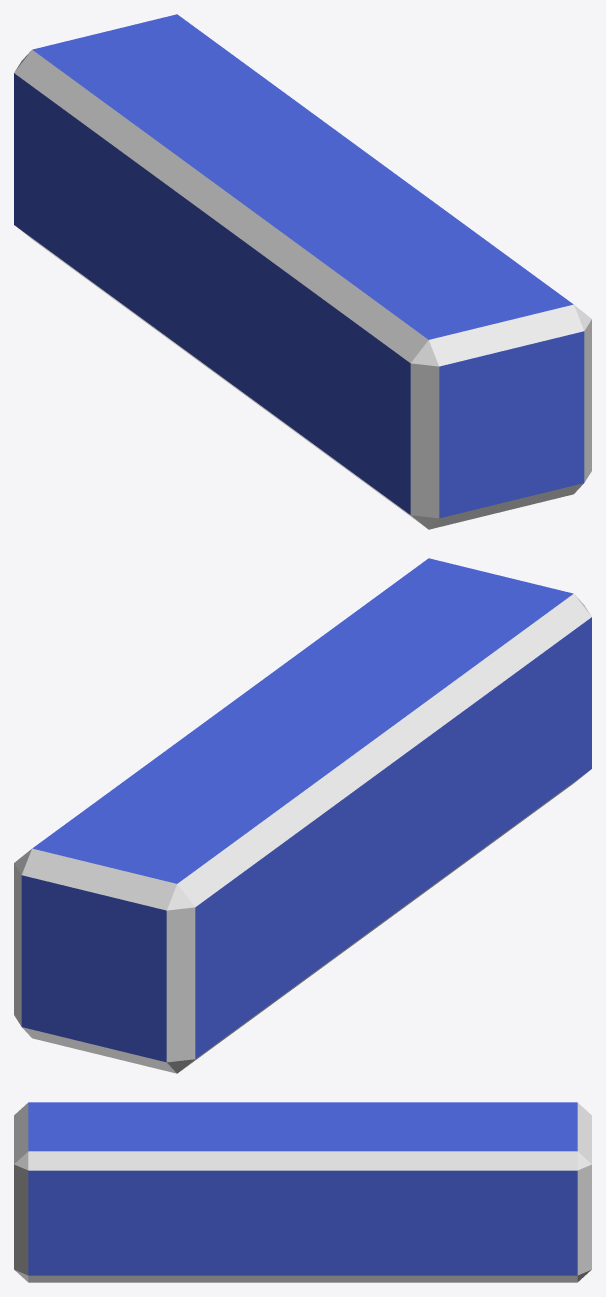
File: Zid 1x4.fbx
3 views of the same model, one above another, from view 1: azimuth 30°, elevation 25°; view 2: azimuth 150°, elevation 25°; view 3: azimuth 270°, elevation 25° (orthographic). The views are drawn at different scales.
Parts seen in each view (by area): view 1: Cube.012; view 2: Cube.012; view 3: Cube.012.
Part boxes in pixels (x1=…): Cube.012: x1=14, y1=14, x2=591, y2=529; Cube.012: x1=14, y1=558, x2=591, y2=1073; Cube.012: x1=14, y1=1102, x2=591, y2=1282.
Size of the model in its own units: 1 by 1 by 3.99.
